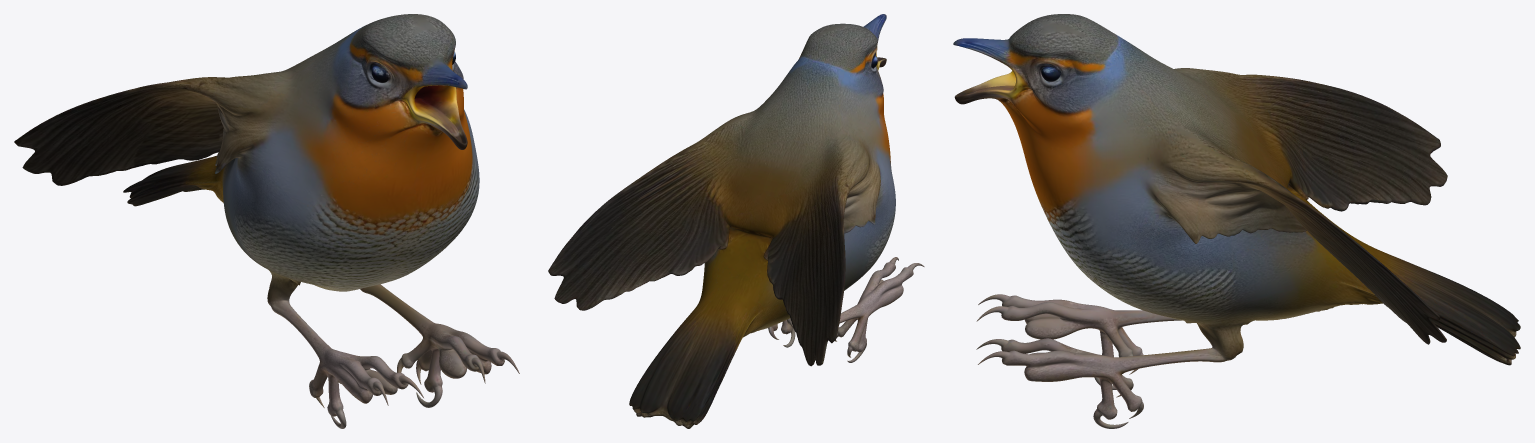
The model's file is chucao.glb.
3 renders of one model, left to right at view 1: azimuth 30°, elevation 25°; view 2: azimuth 150°, elevation 25°; view 3: azimuth 270°, elevation 25°, orthographic. The views are drawn at different scales.
Visible parts, largest first — view 1: material; view 2: material; view 3: material.
Part boxes in pixels (<box>): material: <box>14,14,519,428</box>; material: <box>548,14,924,428</box>; material: <box>953,14,1520,428</box>.
Bounding box in the file's own units: 0.7313 × 0.7531 × 0.9987.
1 material, 1 textured.
